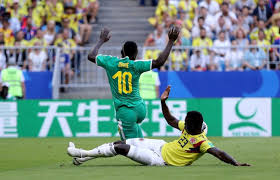10+: (1, 1, 280, 171)
down: (66, 82, 252, 171)
